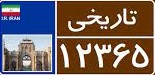character: (75, 40, 94, 73), (111, 40, 131, 71), (94, 40, 112, 73), (132, 41, 150, 71), (59, 40, 71, 71)
